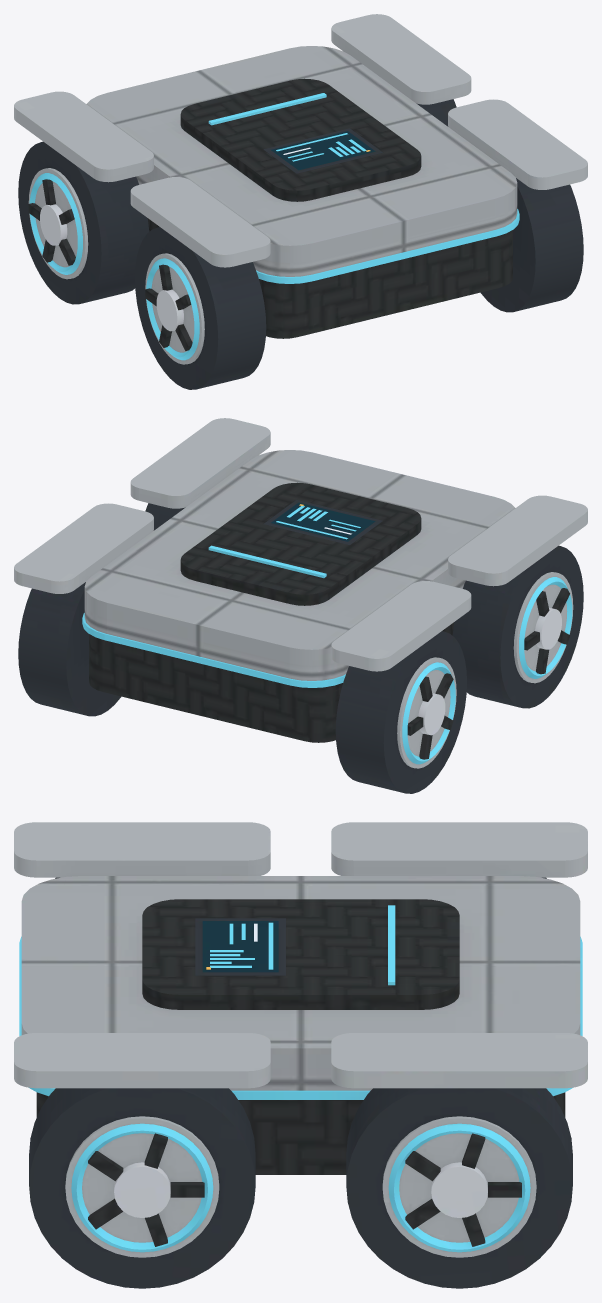
The model's file is enterprise_wheel.glb.
3 views of the same model, one above another, from view 1: azimuth 30°, elevation 25°; view 2: azimuth 150°, elevation 25°; view 3: azimuth 270°, elevation 25° (orthographic). The views are drawn at different scales.
Parts seen in each view (by area): view 1: te_enterprise_wheel; view 2: te_enterprise_wheel; view 3: te_enterprise_wheel.
Part boxes in pixels (bbox=[...]): te_enterprise_wheel: bbox=[14, 14, 587, 389]; te_enterprise_wheel: bbox=[14, 418, 587, 793]; te_enterprise_wheel: bbox=[14, 822, 587, 1288].
Size of the model in its own units: 0.8 by 0.327 by 0.76.
Materials: 1 (1 with a texture image).
